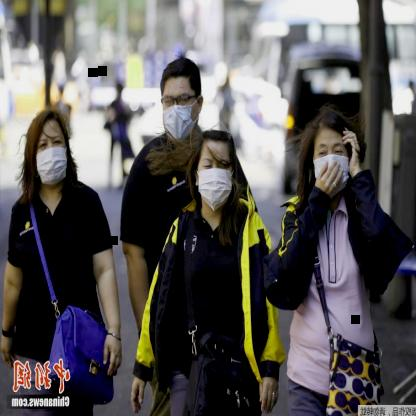mask: (303, 106, 360, 196), (158, 50, 206, 144), (192, 124, 242, 214), (26, 102, 74, 193)
